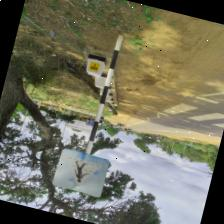blueboard: (50, 146, 110, 198)
crossing: (125, 65, 224, 149), (186, 105, 224, 128), (162, 98, 198, 120), (197, 82, 224, 103)
